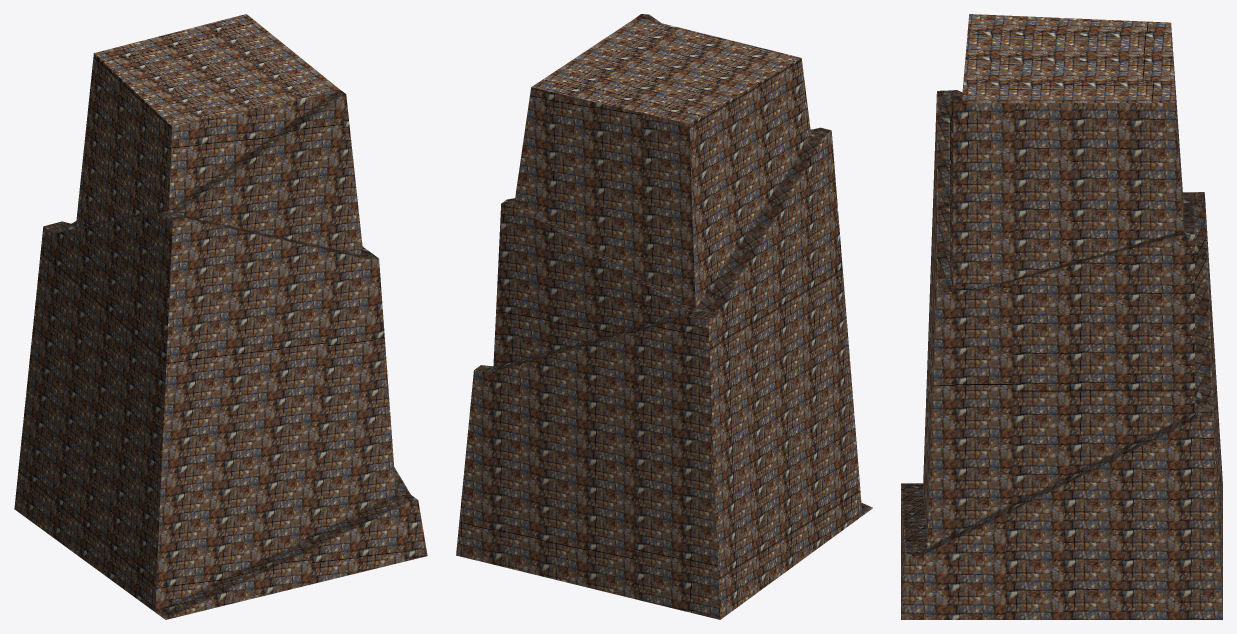
The model's file is TrashTower.fbx.
3 renders of one model, left to right at view 1: azimuth 30°, elevation 25°; view 2: azimuth 150°, elevation 25°; view 3: azimuth 270°, elevation 25°, orthographic. The views are drawn at different scales.
Parts seen in each view (by area): view 1: Box001; view 2: Box001; view 3: Box001.
Boxes of the visible parts, <box> form: Box001: <box>14,14,427,619</box>; Box001: <box>456,14,872,619</box>; Box001: <box>901,14,1222,619</box>.
Size of the model in its own units: 600 by 1008 by 600.
1 material, 1 textured.
